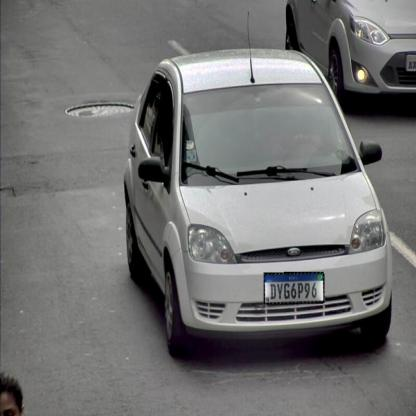PlacaM: (264, 272, 324, 304)
